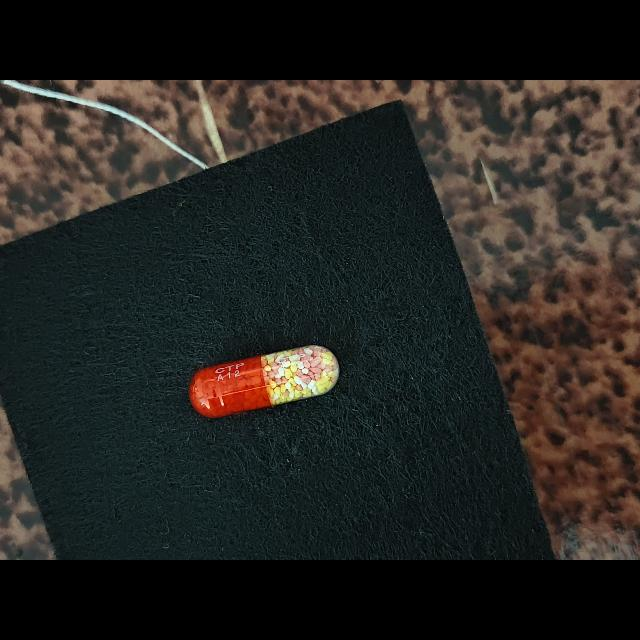Intact Capsule: (189, 345, 340, 418)
